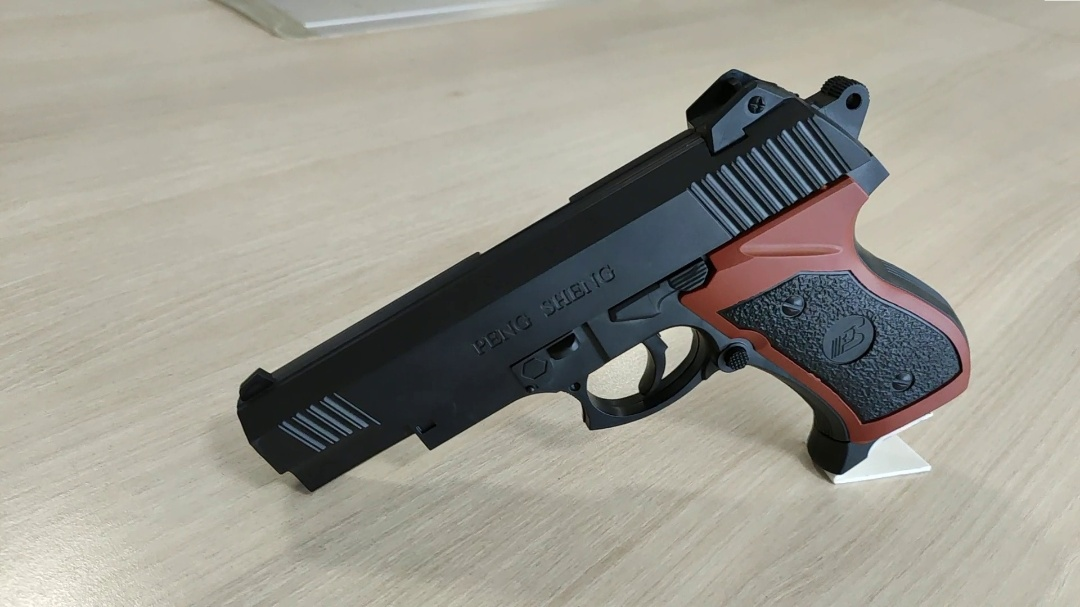gun: (651, 164, 899, 320)
